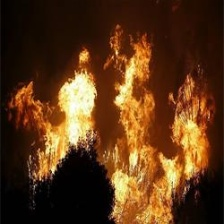fire: (11, 34, 218, 224)
